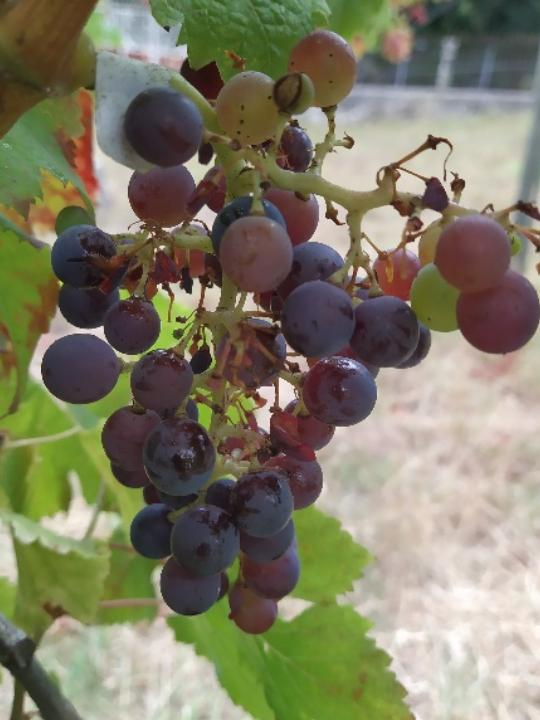grape: (31, 23, 540, 638)
